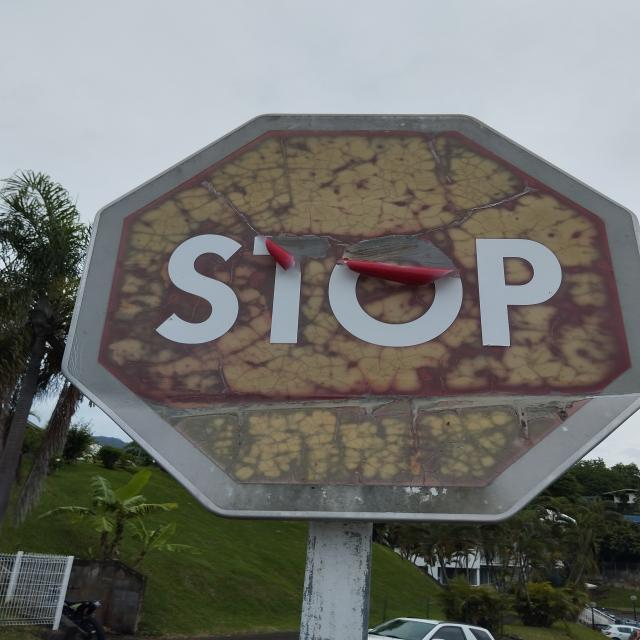Panneau-Stop: (56, 111, 640, 526)
